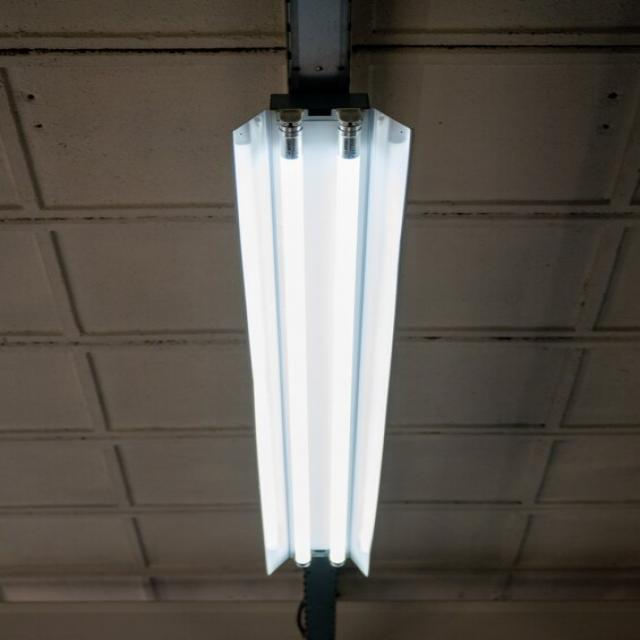Straight-Tube-Fluorescent-Lamp: (270, 108, 324, 572), (324, 104, 372, 576)
